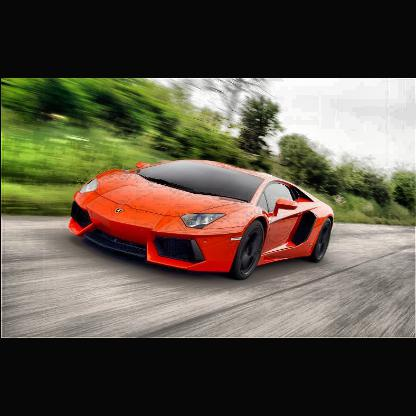Lamborghini Aventador Coupe 2012: (62, 153, 340, 282)
